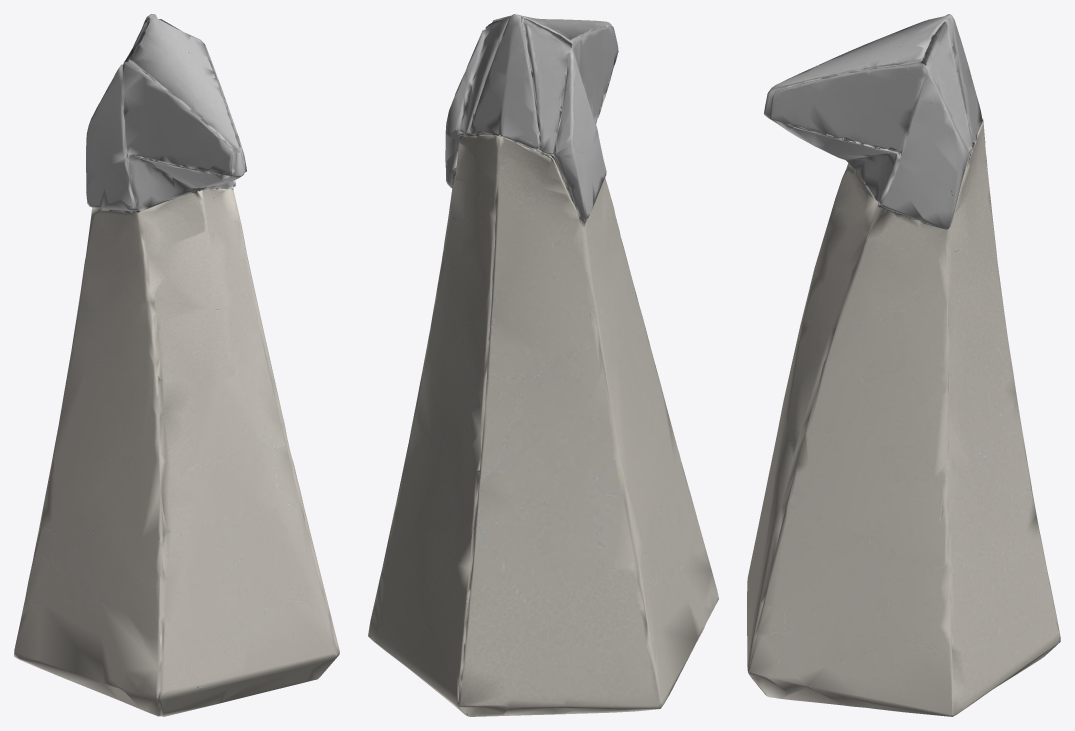
Rendered from knight-white.glb.
3 renders of one model, left to right at view 1: azimuth 30°, elevation 25°; view 2: azimuth 150°, elevation 25°; view 3: azimuth 270°, elevation 25°, orthographic. The views are drawn at different scales.
Size of the model in its own units: 0.6212 by 1.35 by 0.597.
Materials: 1 (1 with a texture image).
